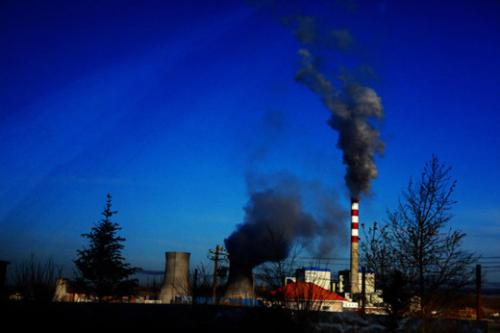smoke: (305, 66, 387, 199), (214, 190, 318, 268)
